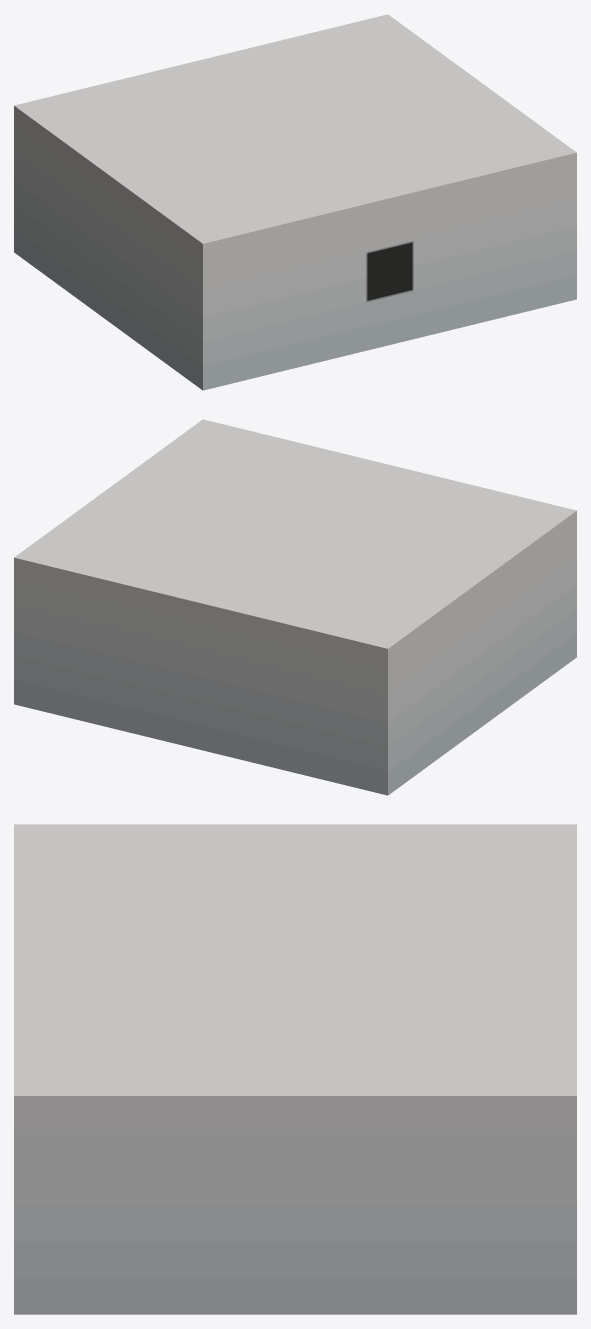
File: Spine062.fbx
3 renders of one model, top to bottom at view 1: azimuth 30°, elevation 25°; view 2: azimuth 150°, elevation 25°; view 3: azimuth 270°, elevation 25°, orthographic. The views are drawn at different scales.
Parts seen in each view (by area): view 1: Spine062; view 2: Spine062; view 3: Spine062.
Part boxes in pixels (x1,y1,x2,y2): Spine062: (14, 14, 576, 390); Spine062: (14, 419, 576, 795); Spine062: (14, 824, 576, 1314).
Size of the model in its own units: 16 by 6 by 14.
